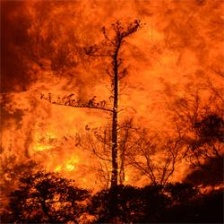fire: (99, 13, 195, 121), (35, 140, 94, 185)
